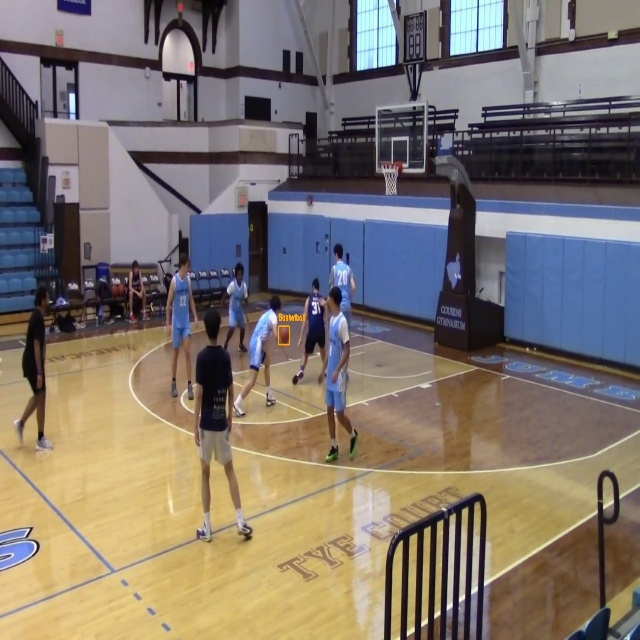Basketball: (279, 326, 289, 344)
